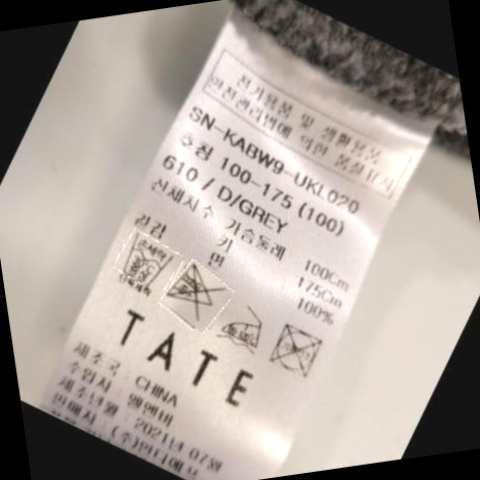DN_tumble_dry: (267, 321, 329, 385)
hand_wash: (114, 233, 176, 292)
iron_low: (215, 300, 270, 358)
non_chlorine_bleach: (165, 260, 228, 323)
